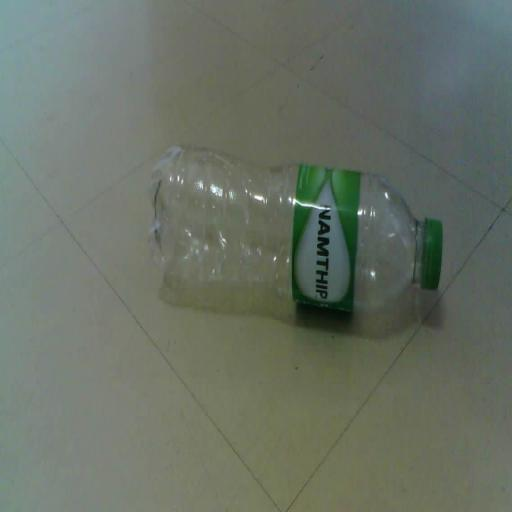bottle: (119, 116, 458, 330)
